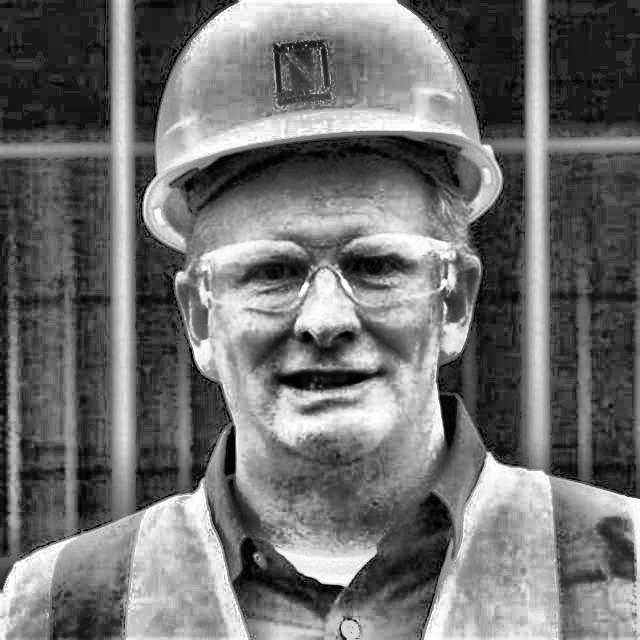Helmet: (120, 0, 520, 475)
